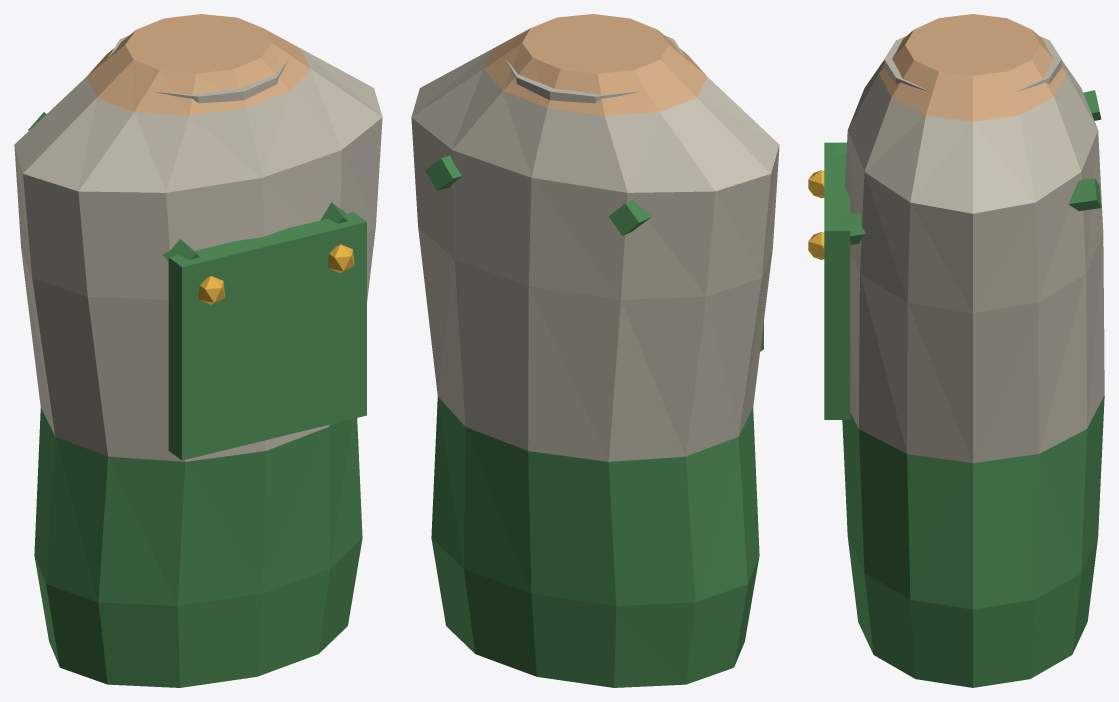
Rendered from PersonHelper3Body.obj.
3 renders of one model, left to right at view 1: azimuth 30°, elevation 25°; view 2: azimuth 150°, elevation 25°; view 3: azimuth 270°, elevation 25°, orthographic. The views are drawn at different scales.
Visible parts, largest first — view 1: PersonHelper3Body; view 2: PersonHelper3Body; view 3: PersonHelper3Body.
Part boxes in pixels (box(x1,y1,x2,y2)): PersonHelper3Body: box(14, 14, 382, 687); PersonHelper3Body: box(411, 14, 779, 687); PersonHelper3Body: box(808, 14, 1104, 687).
Bounding box in the file's own units: 0.38 × 0.61 × 0.284.
